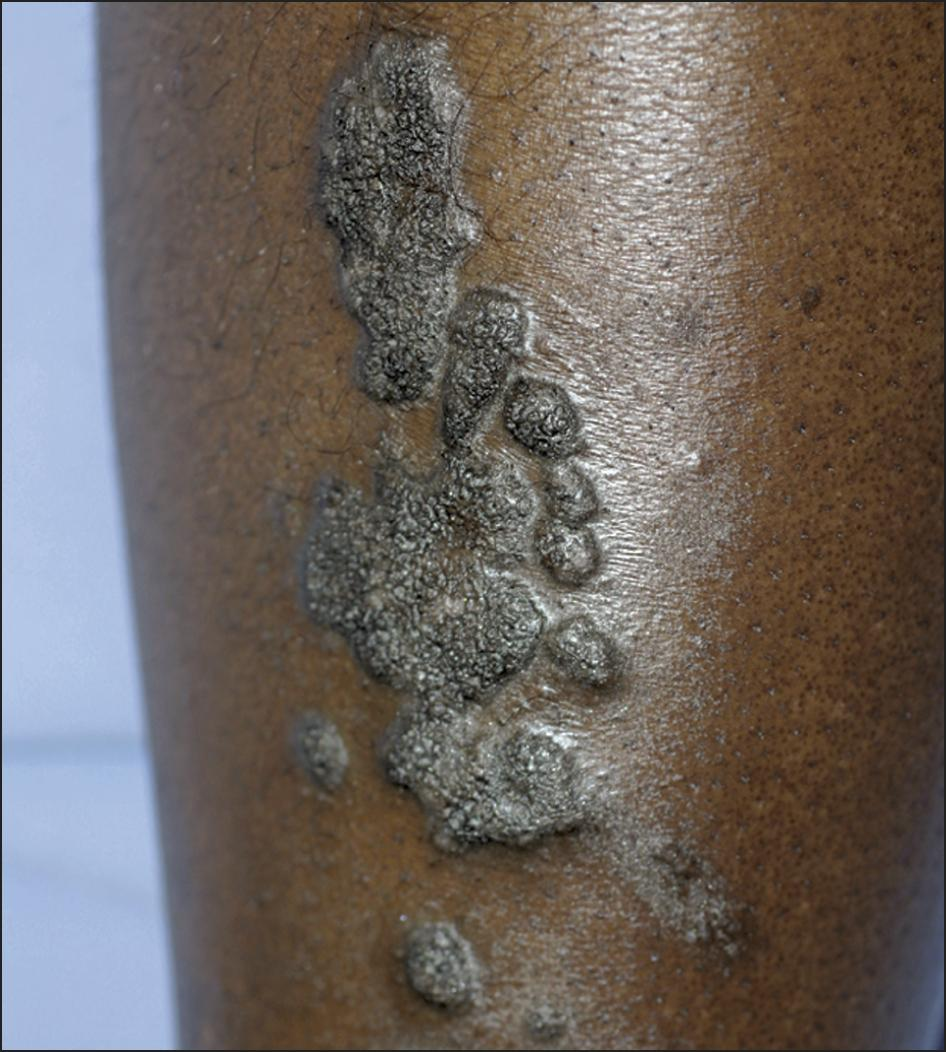hypertrophic lichen planus: (230, 19, 835, 1051)
